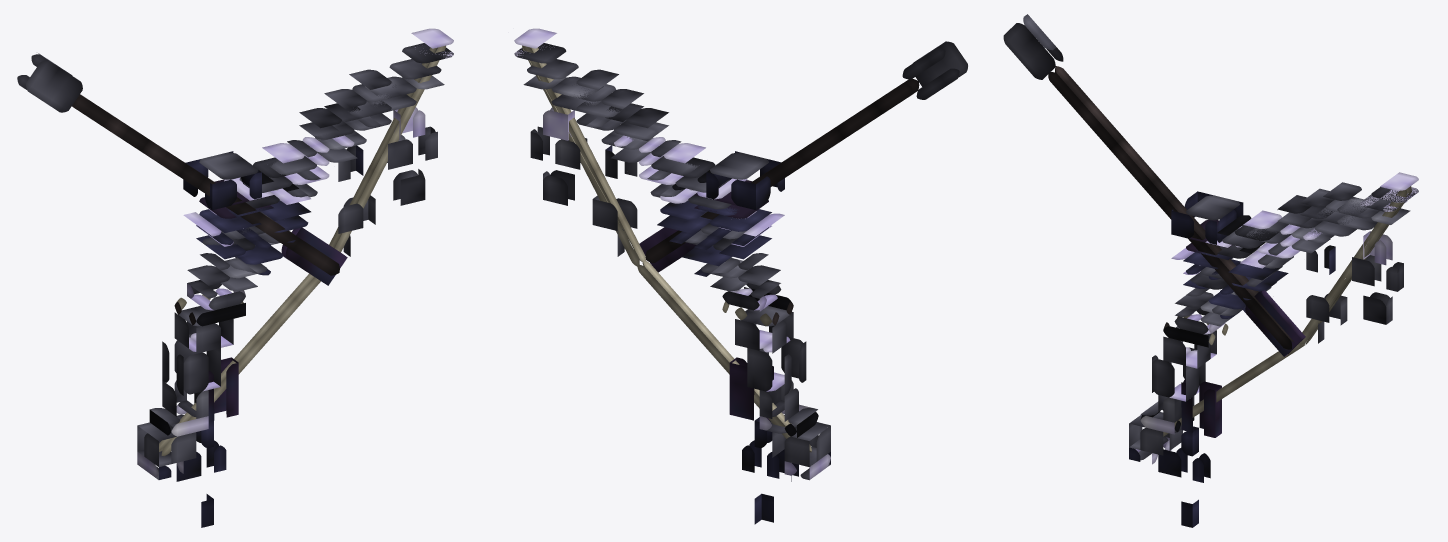
Rendered from crowfletch_bow_pulling_0.obj.
3 views of the same model, side by side, from view 1: azimuth 30°, elevation 25°; view 2: azimuth 150°, elevation 25°; view 3: azimuth 330°, elevation 25° (orthographic). The views are drawn at different scales.
Parts seen in each view (by area): view 1: lit, fire; view 2: lit, fire; view 3: lit, fire.
Part boxes in pixels (bbox=[...]): lit: bbox=[17, 28, 453, 527]; fire: bbox=[281, 227, 347, 285]; lit: bbox=[514, 28, 967, 524]; fire: bbox=[639, 227, 696, 272]; lit: bbox=[1003, 14, 1418, 527]; fire: bbox=[1242, 290, 1305, 356].
Size of the model in its own units: 1.13 by 1.24 by 0.1282.
